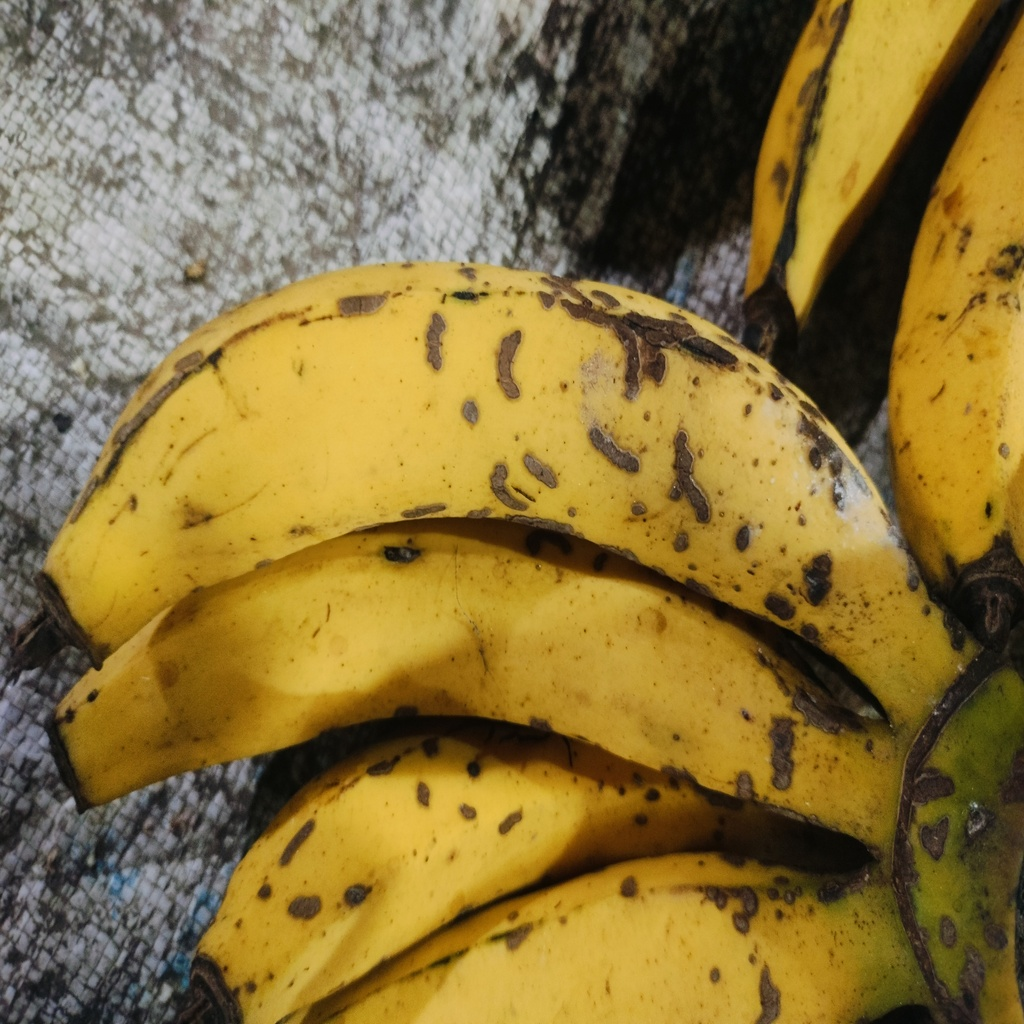unhealthy: (46, 265, 905, 668), (67, 539, 849, 811)
